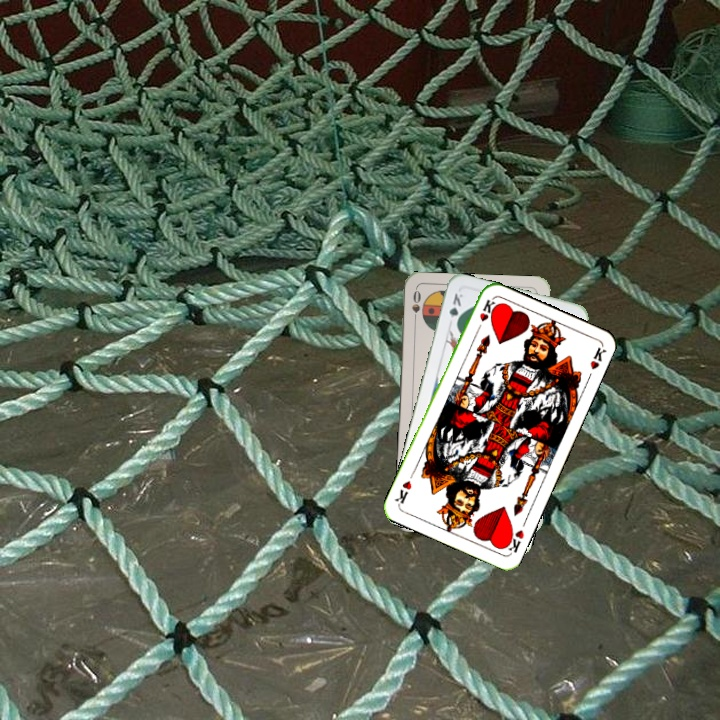GK: (444, 289, 465, 329)
HK: (472, 295, 498, 334), (500, 525, 527, 556)
SO: (408, 286, 423, 327)
